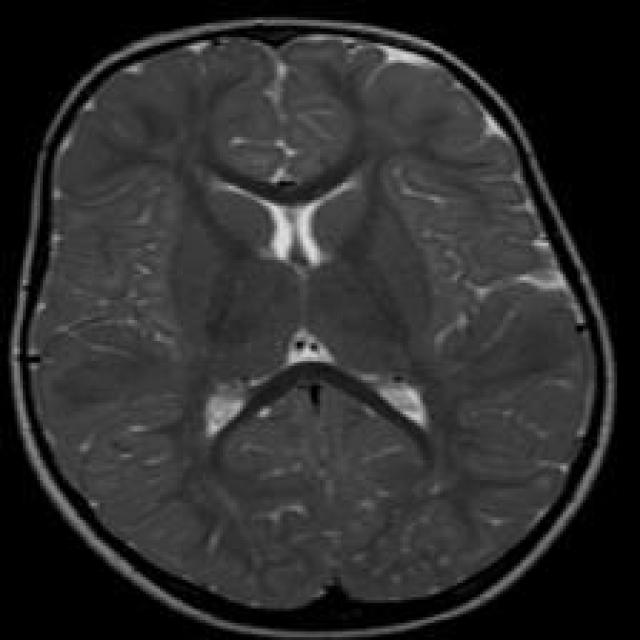no_tumor: (6, 13, 618, 630)
